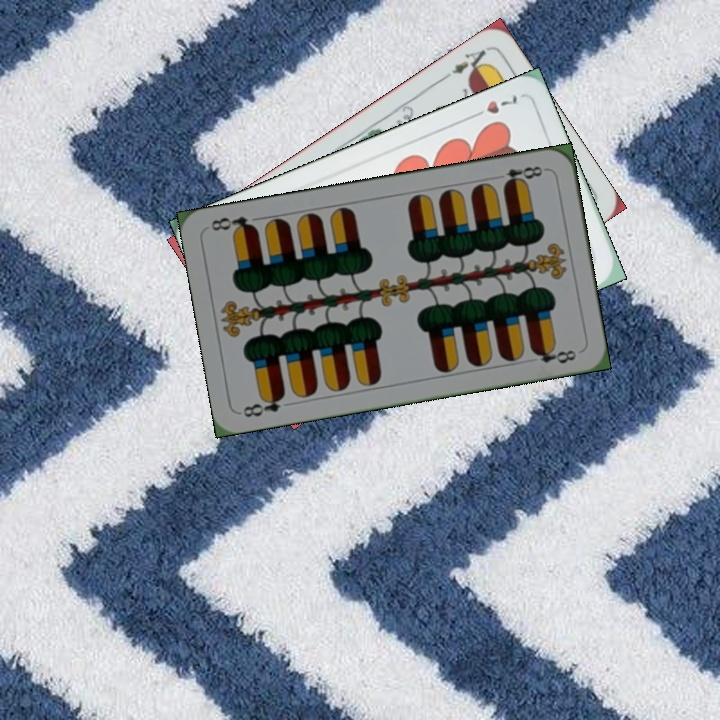E8: (239, 389, 288, 420), (499, 162, 549, 190)
EA: (438, 45, 493, 83)
H7: (466, 89, 520, 122)
